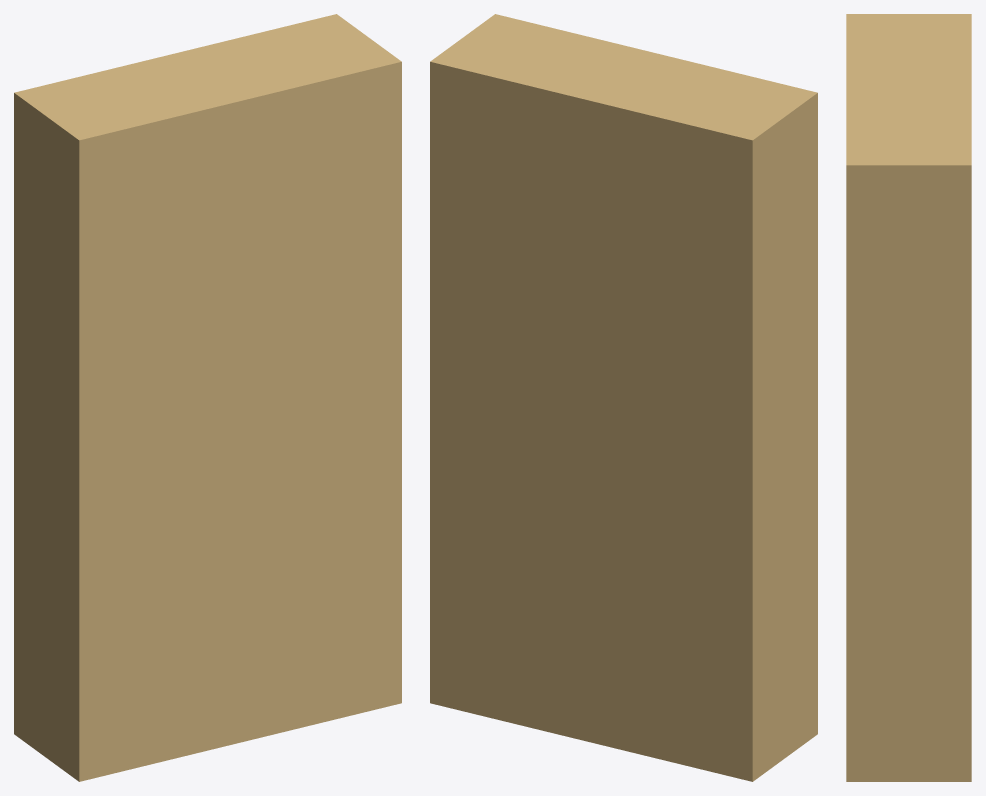
The picture shows the model from 3 angles, left to right: view 1: azimuth 30°, elevation 25°; view 2: azimuth 150°, elevation 25°; view 3: azimuth 270°, elevation 25°; orthographic projection. The views are drawn at different scales.
Visible parts, largest first — view 1: GF-L12-BLK-SUP-B4-S2-023; view 2: GF-L12-BLK-SUP-B4-S2-023; view 3: GF-L12-BLK-SUP-B4-S2-023.
Part boxes in pixels (x1=…): GF-L12-BLK-SUP-B4-S2-023: x1=14, y1=14, x2=401, y2=781; GF-L12-BLK-SUP-B4-S2-023: x1=430, y1=14, x2=817, y2=781; GF-L12-BLK-SUP-B4-S2-023: x1=846, y1=14, x2=971, y2=781.
Size of the model in its own units: 0.1 by 0.19 by 0.035.
